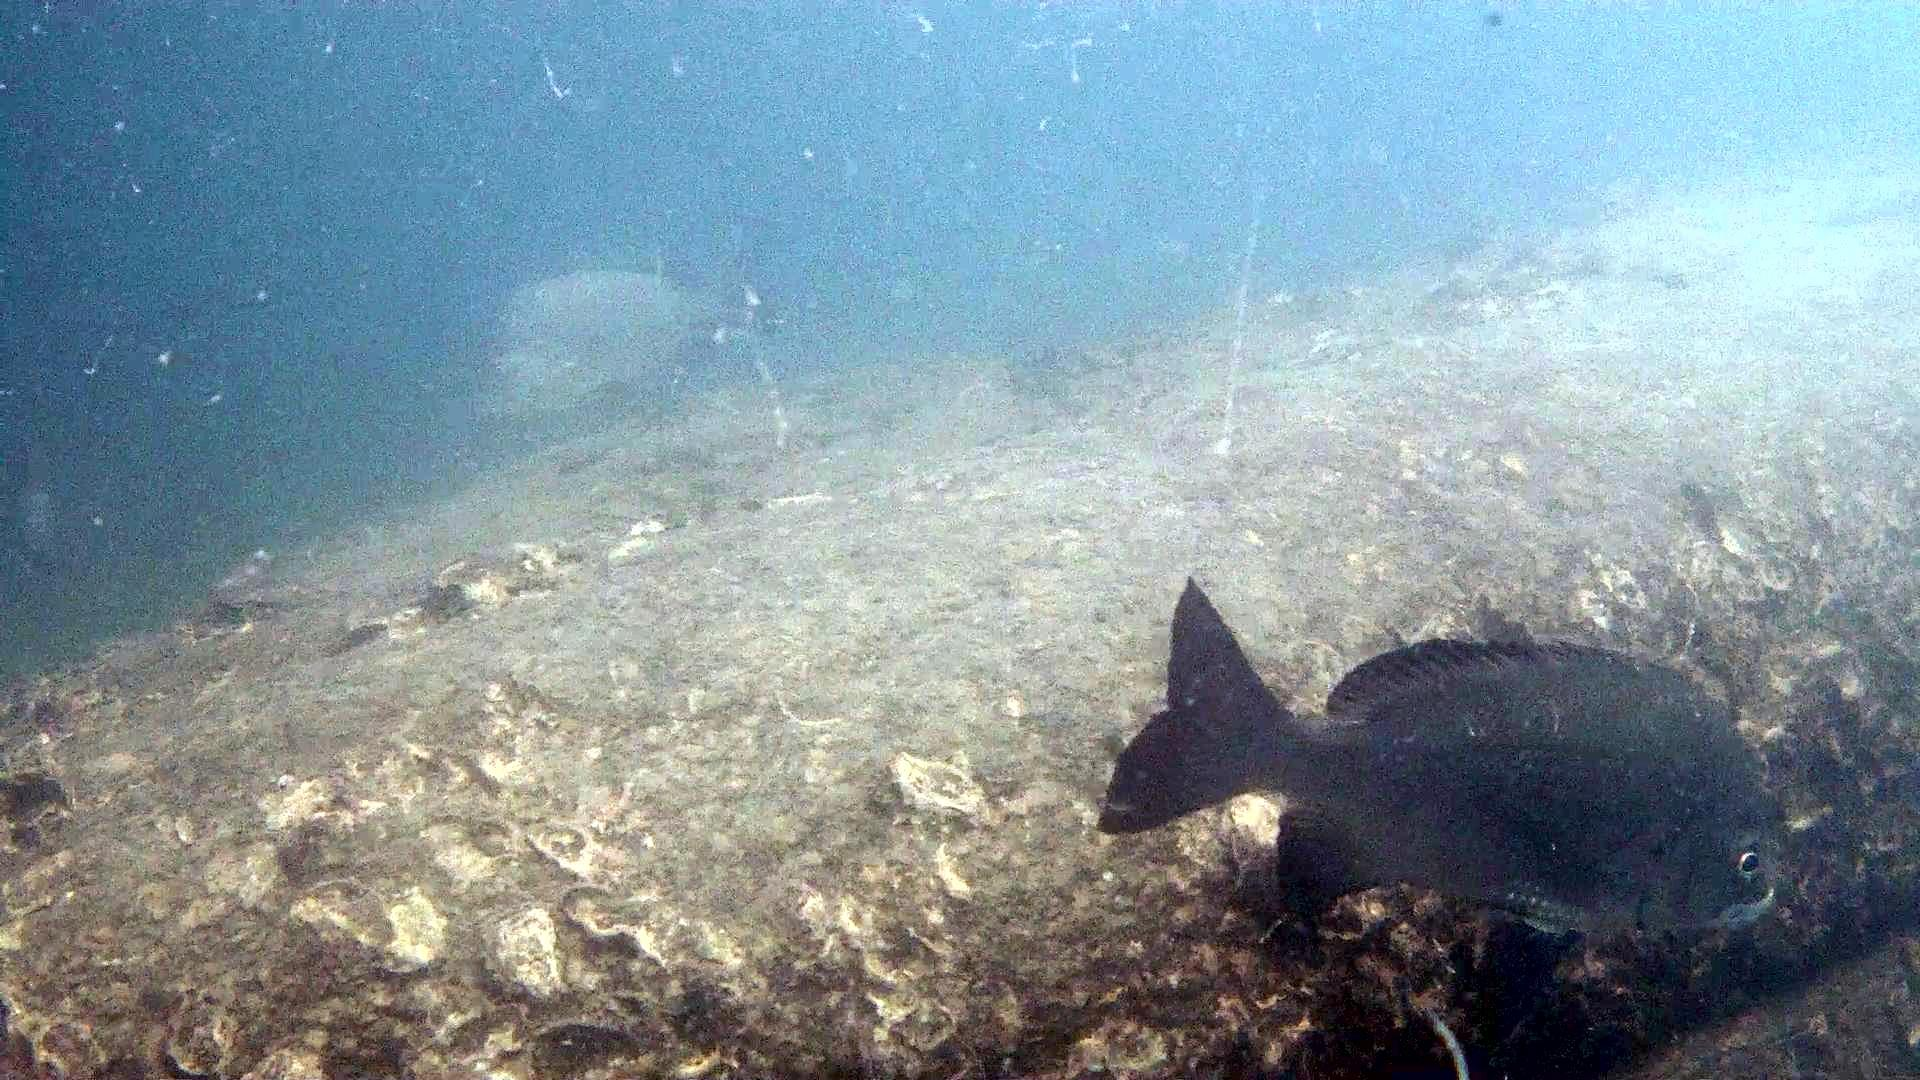acanthopagrus palmaris: (1092, 565, 1793, 1059)
